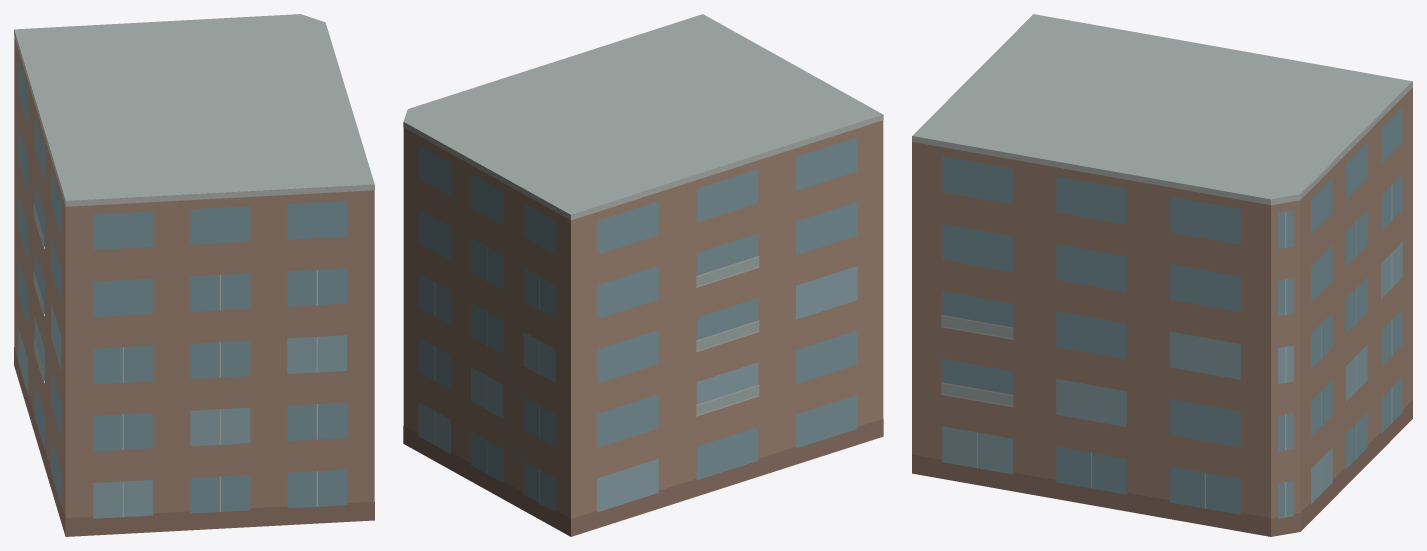
Rendered from survey-upis-32835158.glb.
3 renders of one model, left to right at view 1: azimuth 30°, elevation 25°; view 2: azimuth 150°, elevation 25°; view 3: azimuth 270°, elevation 25°, orthographic. The views are drawn at different scales.
Visible parts, largest first — view 1: survey-upis-32835158.tmp; view 2: survey-upis-32835158.tmp; view 3: survey-upis-32835158.tmp.
Part boxes in pixels (bbox=[...]): survey-upis-32835158.tmp: bbox=[14, 14, 374, 536]; survey-upis-32835158.tmp: bbox=[403, 14, 883, 536]; survey-upis-32835158.tmp: bbox=[912, 14, 1412, 536].
Bounding box in the file's own units: 16.62 × 14.1 × 18.97.
